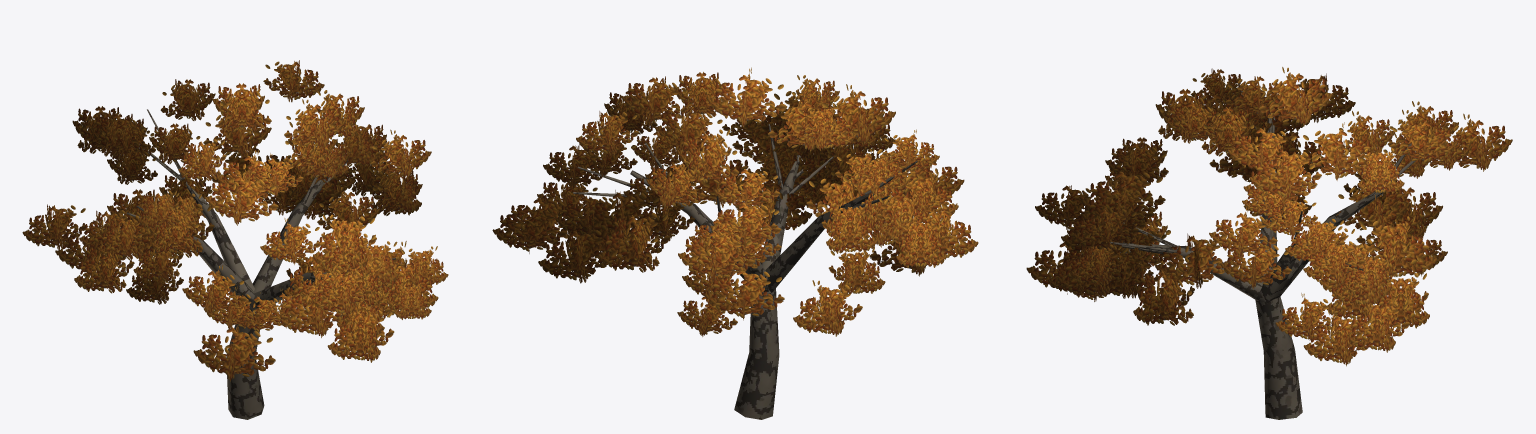
File: oak1_autumn_lod0.fbx
3 views of the same model, side by side, from view 1: azimuth 30°, elevation 25°; view 2: azimuth 150°, elevation 25°; view 3: azimuth 270°, elevation 25° (orthographic). The views are drawn at different scales.
Parts seen in each view (by area): view 1: oak1_autumn_lod0; view 2: oak1_autumn_lod0; view 3: oak1_autumn_lod0.
Part boxes in pixels (x1=…): oak1_autumn_lod0: x1=22, y1=60, x2=448, y2=419; oak1_autumn_lod0: x1=492, y1=67, x2=978, y2=419; oak1_autumn_lod0: x1=1026, y1=67, x2=1512, y2=419.
Bounding box in the file's own units: 11.11 × 9.09 × 10.87.
2 materials, 2 textured.
